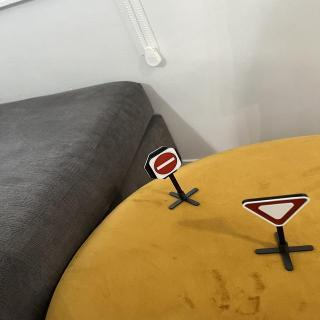sign_noentry: (149, 147, 184, 181)
sign_yield: (242, 196, 312, 229)
